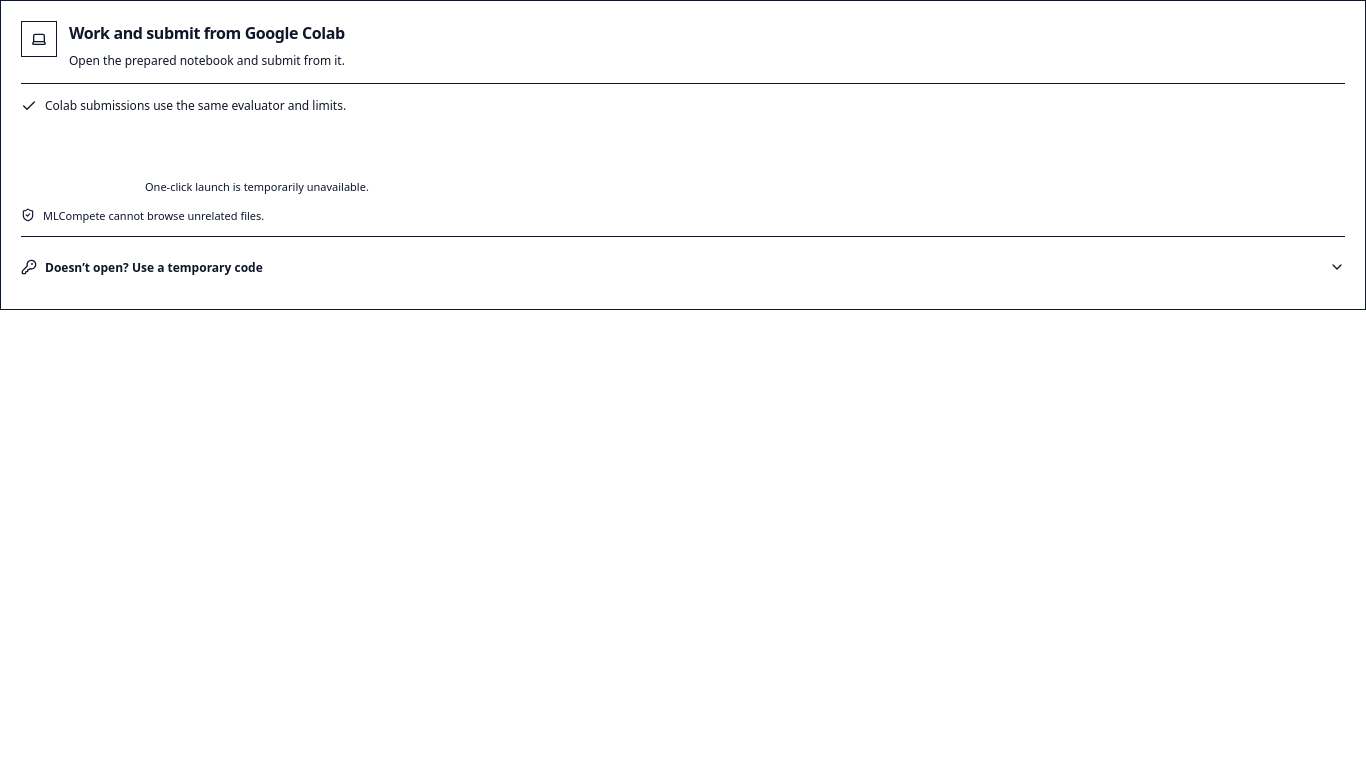
Test: ProblemColabWorkspaceCard › generates and copies a human code only inside the manual fallback
Click the heading "Doesn’t open? Use a temporary code". click: (154, 267)
box: [21,259,1345,276]
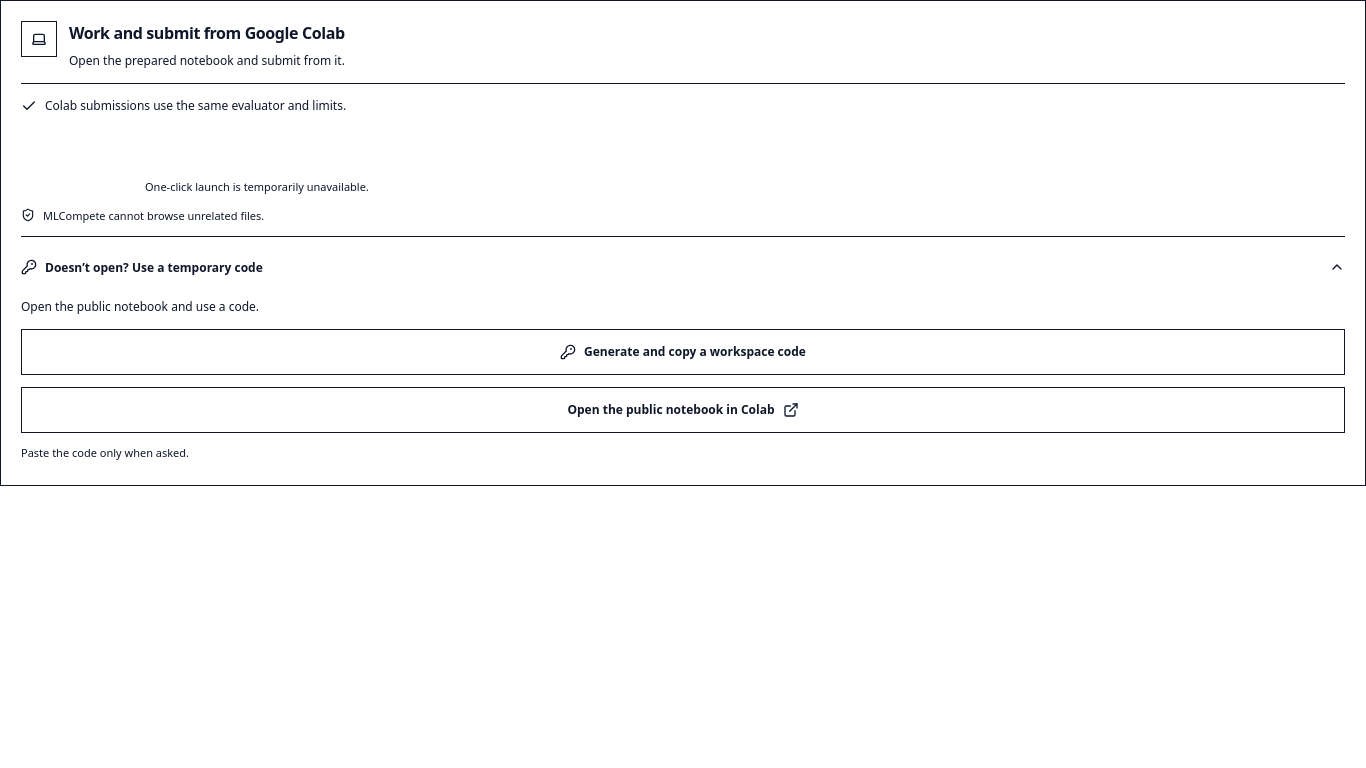
Click the button "Generate and copy a workspace code". click: (683, 352)
box: [21,329,1345,375]
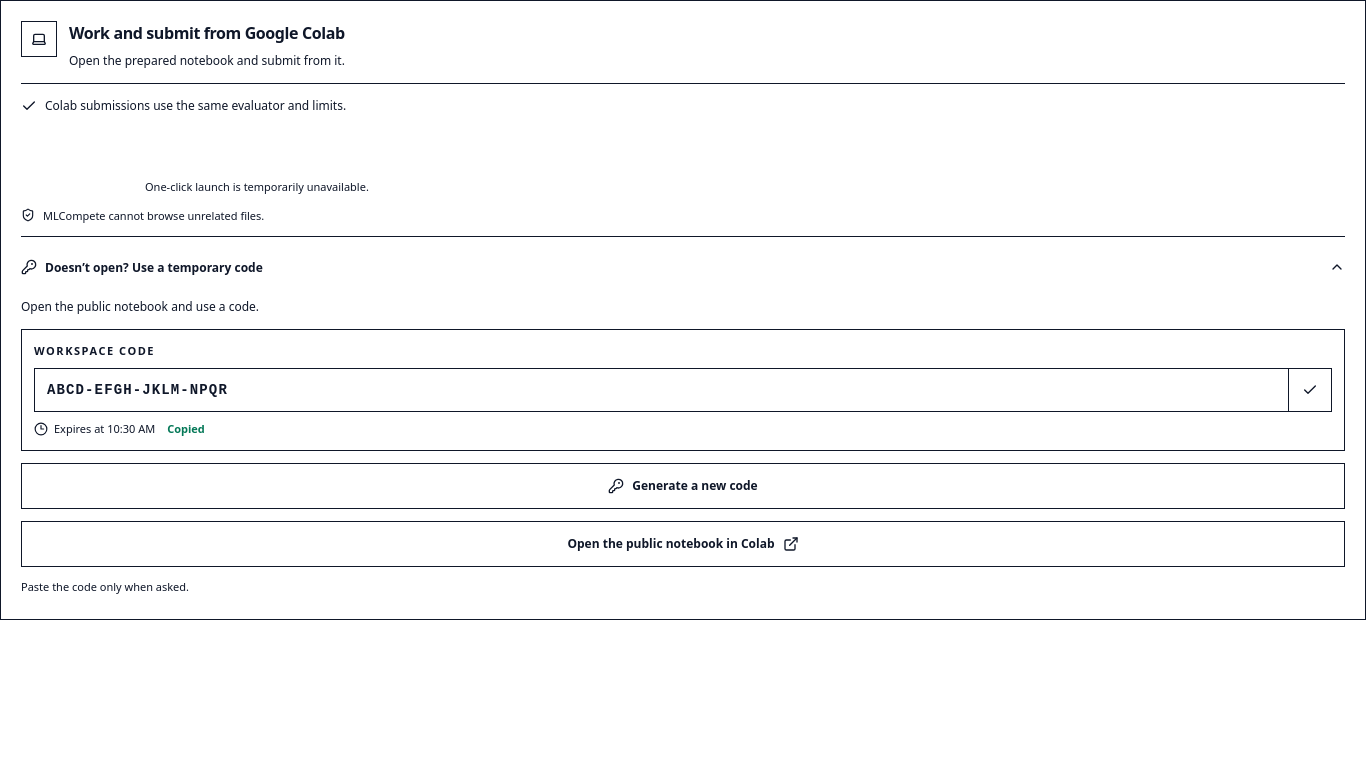
Expected: the text "ABCD-EFGH-JKLM-NPQR" is shown, [34,368,1288,412]
Expected: the button "Generate a new code" is shown, [21,463,1345,509]
